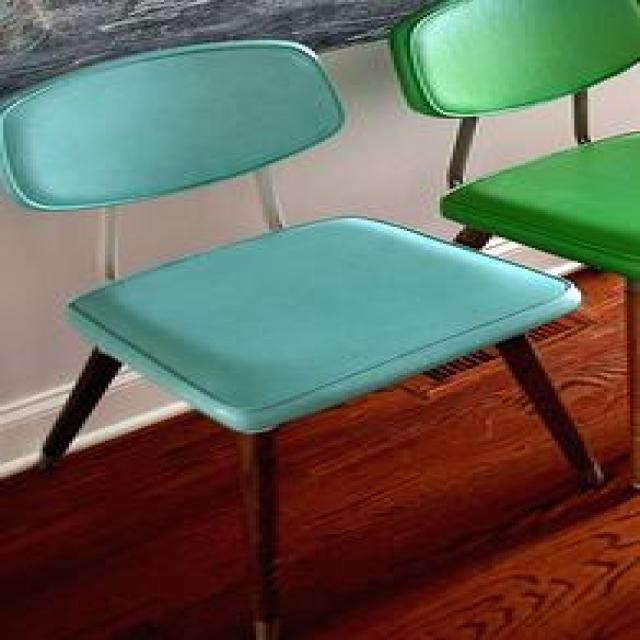chair: (0, 36, 604, 638)
